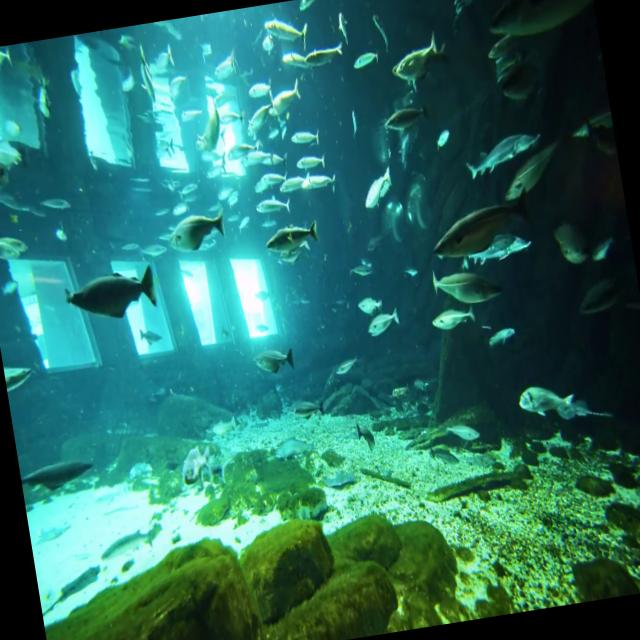fish: (423, 178, 538, 262), (64, 262, 160, 329), (385, 36, 444, 84), (516, 378, 578, 423), (170, 210, 226, 252), (265, 215, 319, 258), (255, 345, 297, 385), (306, 38, 348, 68), (367, 300, 402, 336)
